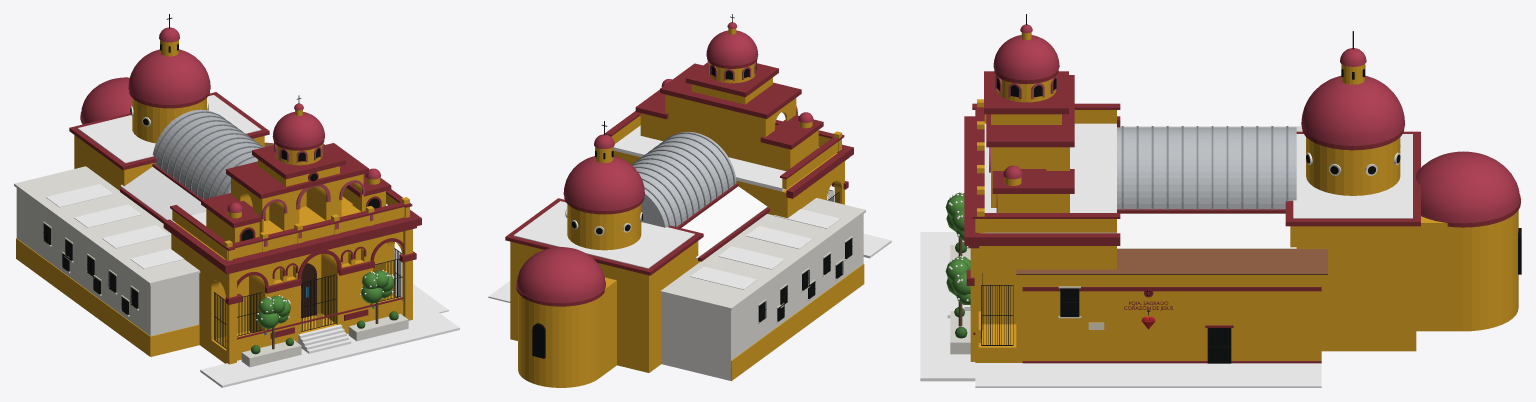
Rendered from parroquia-sagrado-jesus.glb.
3 views of the same model, side by side, from view 1: azimuth 30°, elevation 25°; view 2: azimuth 150°, elevation 25°; view 3: azimuth 270°, elevation 25° (orthographic). The views are drawn at different scales.
Visible parts, largest first — view 1: Frente_cuerpo, Anexo izq, Anexo izq remate, Boveda nave, Apron frontal ladrillo, Campanario, Cupula principal, Anexo izq base amarilla, Techo transepto, Cornisa 1, Cornisa campanario, Techo nave lateral (+35 smaller); view 2: Anexo izq, Anexo izq remate, Transepto, Abside, Boveda nave, Campanario, Cupula abside, Techo transepto, Cupula principal, Anexo izq base amarilla, Tambor cupula, Techo nave lateral (+24 smaller); view 3: Anexo der, Boveda nave, Frente_cuerpo, Transepto, Plaza lateral derecha, Techo nave lateral.001, Techo anexo der, Cupula abside, Abside, Cupula principal, Presbiterio, Apron frontal ladrillo (+28 smaller).
Part boxes in pixels (<box>): Frente_cuerpo: <box>171,222,403,363</box>; Anexo izq: <box>16,188,199,336</box>; Anexo izq remate: <box>14,166,200,285</box>; Boveda nave: <box>152,109,262,199</box>; Apron frontal ladrillo: <box>200,312,459,387</box>; Campanario: <box>231,174,363,236</box>; Cupula principal: <box>128,49,210,104</box>; Anexo izq base amarilla: <box>16,238,150,356</box>; Techo transepto: <box>77,95,261,163</box>; Cornisa 1: <box>219,216,421,272</box>; Cornisa campanario: <box>226,143,368,198</box>; Techo nave lateral: <box>120,166,206,222</box>; Anexo izq: <box>661,214,863,380</box>; Anexo izq remate: <box>660,198,865,310</box>; Transepto: <box>510,241,698,372</box>; Abside: <box>518,293,598,387</box>; Boveda nave: <box>633,132,736,227</box>; Campanario: <box>665,94,796,166</box>; Cupula abside: <box>517,247,605,302</box>; Techo transepto: <box>513,201,694,268</box>; Cupula principal: <box>563,156,644,210</box>; Anexo izq base amarilla: <box>731,264,864,380</box>; Tambor cupula: <box>567,204,641,250</box>; Techo nave lateral: <box>681,186,767,258</box>; Anexo der: <box>1022,275,1321,360</box>; Boveda nave: <box>1117,127,1296,209</box>; Frente_cuerpo: <box>975,233,1116,362</box>; Transepto: <box>1290,226,1416,351</box>; Plaza lateral derecha: <box>975,363,1321,387</box>; Techo nave lateral.001: <box>1117,213,1296,248</box>; Techo anexo der: <box>1016,249,1327,274</box>; Cupula abside: <box>1416,151,1519,222</box>; Abside: <box>1463,210,1518,331</box>; Cupula principal: <box>1301,75,1404,145</box>; Presbiterio: <box>1416,216,1463,331</box>; Apron frontal ladrillo: <box>920,232,975,381</box>.
Size of the model in its own units: 25.15 by 20.6 by 38.2.
